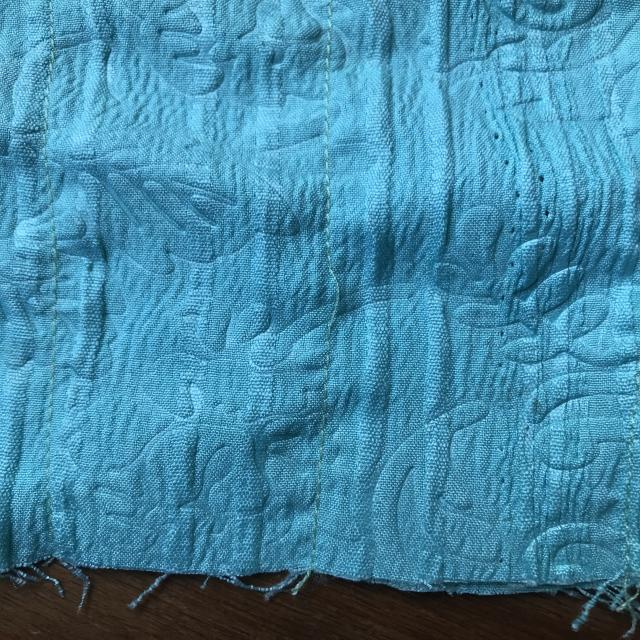good: (310, 125, 344, 212)
skip: (316, 243, 348, 345)
